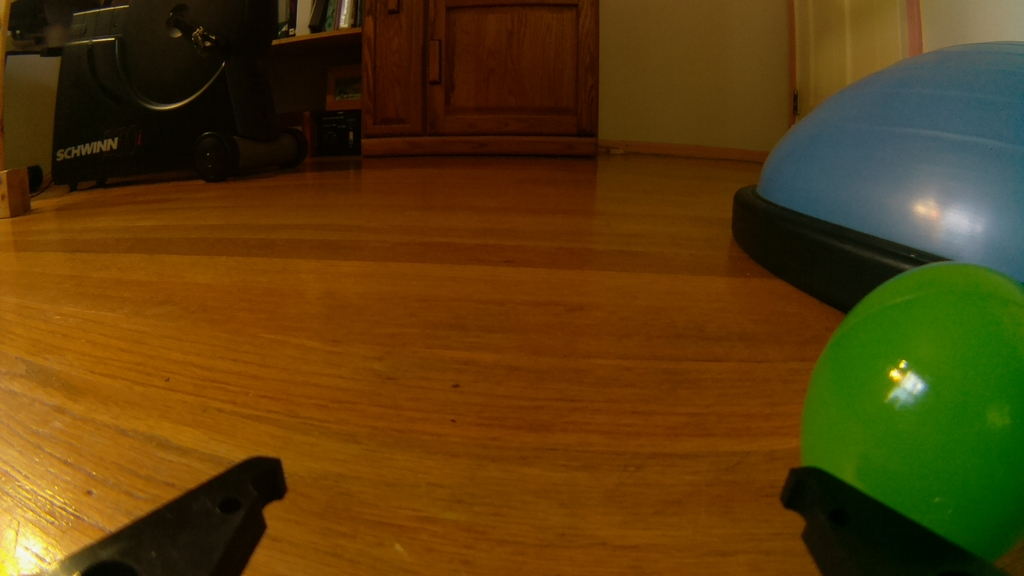ball: (788, 254, 1024, 563)
